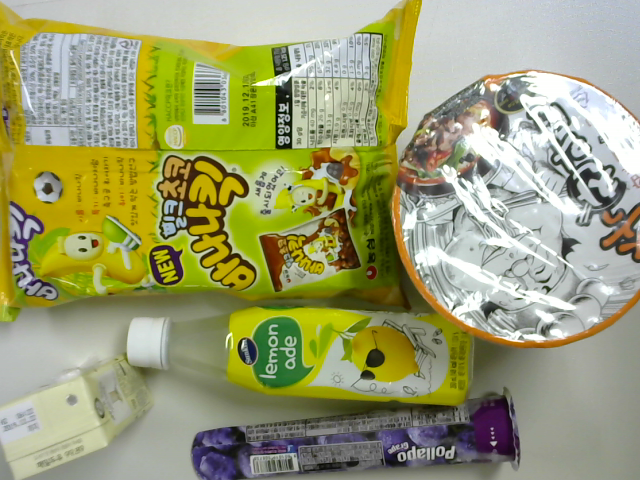99.89_Soymilk: (3, 358, 153, 472)
Banana_Kick: (3, 2, 409, 328)
Hejangchan: (387, 66, 640, 345)
Polapo_Grape: (187, 392, 524, 480)
Sunkist_Lemonaid_Pet: (119, 302, 479, 414)
